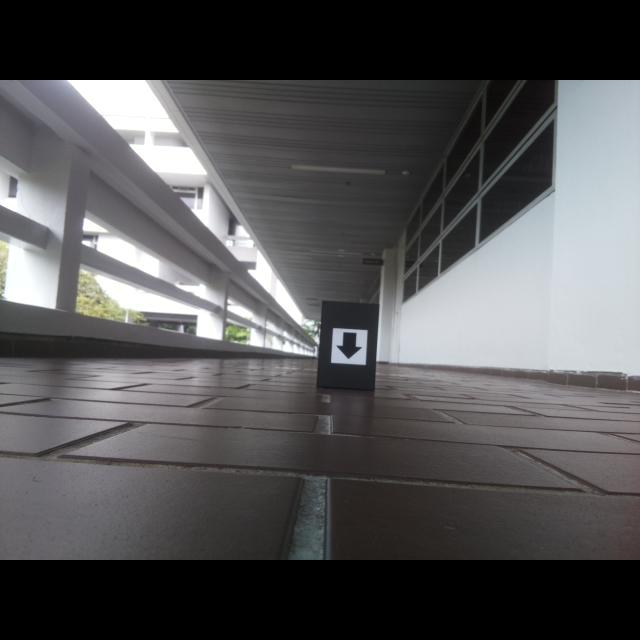DOWN: (335, 332, 363, 360)
